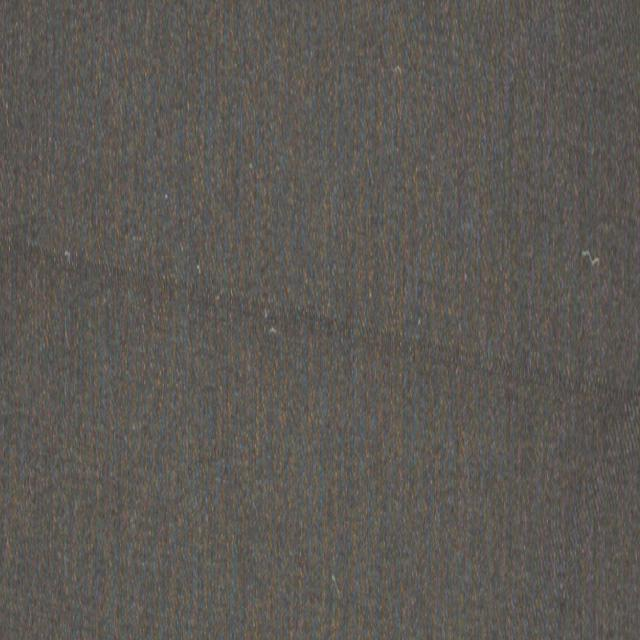Line: (2, 228, 640, 430)
